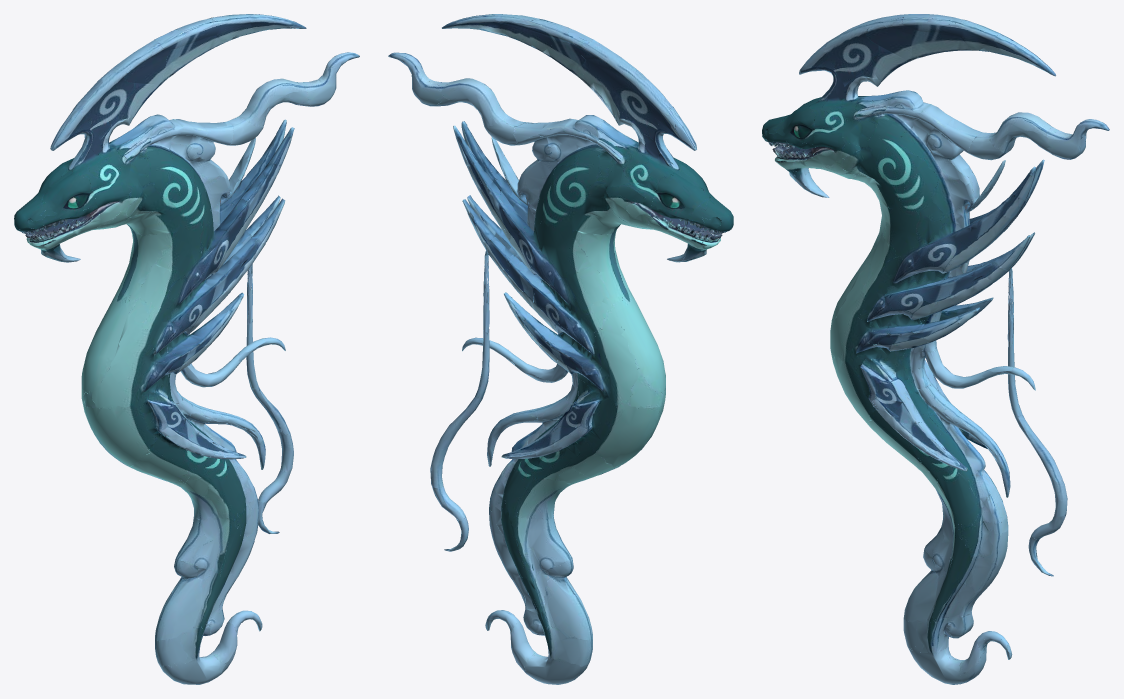
3 renders of one model, left to right at view 1: azimuth 30°, elevation 25°; view 2: azimuth 150°, elevation 25°; view 3: azimuth 330°, elevation 25°, orthographic.
Parts seen in each view (by area): view 1: Mesh_0; view 2: Mesh_0; view 3: Mesh_0.
Part boxes in pixels (bbox=[...]): Mesh_0: bbox=[14, 14, 359, 684]; Mesh_0: bbox=[388, 14, 733, 684]; Mesh_0: bbox=[762, 14, 1109, 684].
Bounding box in the file's own units: 1.04 × 1.9 × 0.2209.
Materials: 1 (1 with a texture image).
